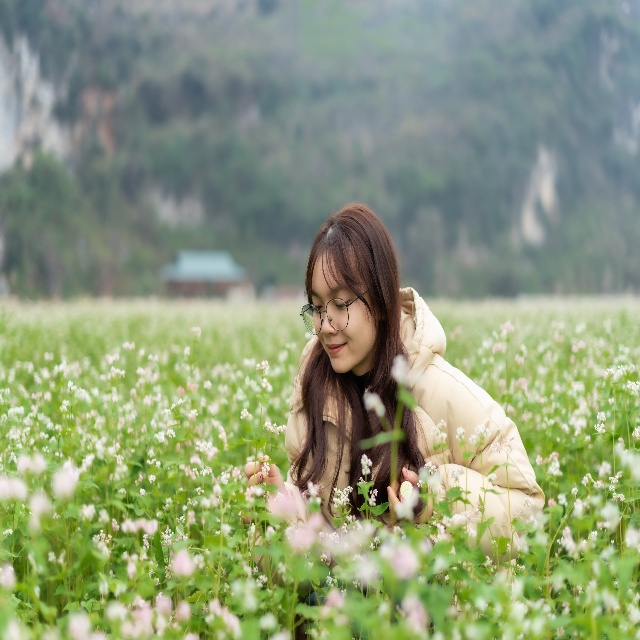Gafas: (299, 286, 371, 335)
Sin_guantes: (241, 454, 288, 526), (386, 465, 435, 526)
